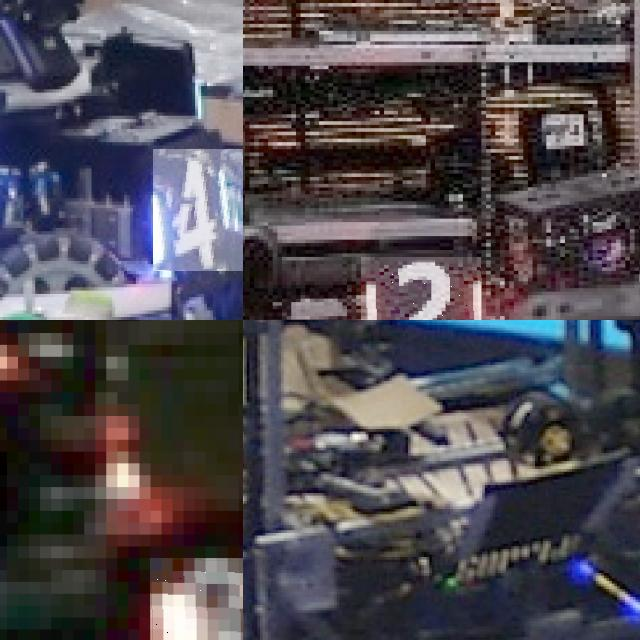B4: (153, 149, 243, 271)
R2: (360, 256, 481, 320)
Rs: (150, 558, 243, 640)
